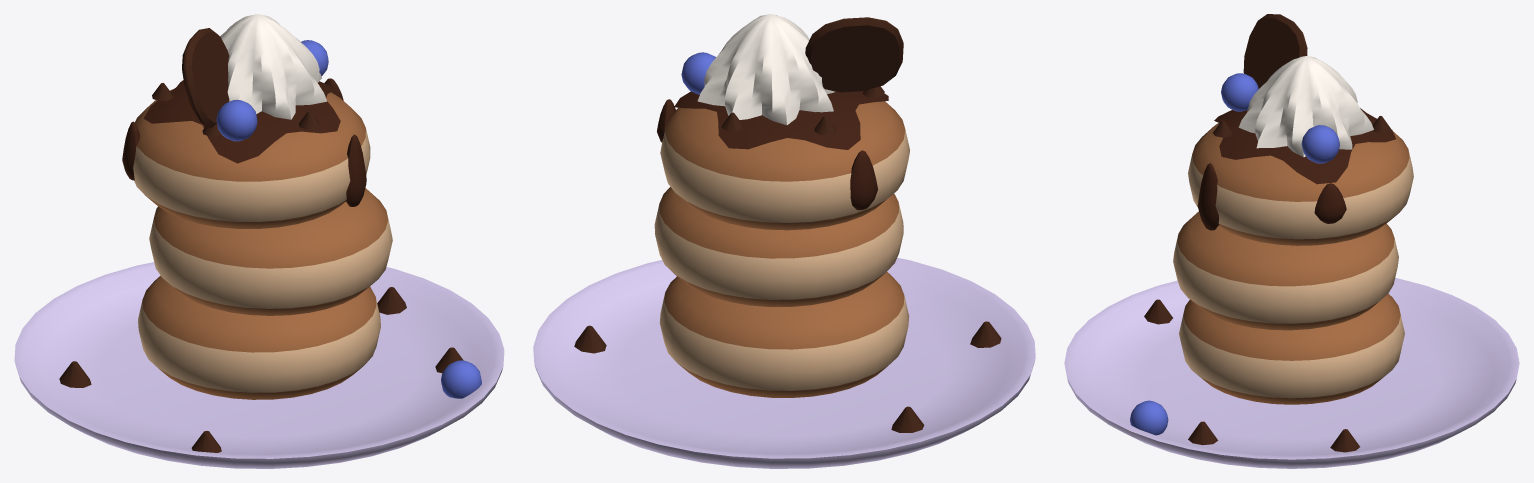
Rendered from ChocolatePancakes.glb.
3 renders of one model, left to right at view 1: azimuth 30°, elevation 25°; view 2: azimuth 150°, elevation 25°; view 3: azimuth 270°, elevation 25°, orthographic. The views are drawn at different scales.
Parts seen in each view (by area): view 1: ChocolatePancakes; view 2: ChocolatePancakes; view 3: ChocolatePancakes.
Boxes of the visible parts, left/top/right/bottom form: ChocolatePancakes: left=14, top=14, right=504, bottom=468; ChocolatePancakes: left=533, top=14, right=1035, bottom=468; ChocolatePancakes: left=1064, top=14, right=1519, bottom=468.
Size of the model in its own units: 1.53 by 1.29 by 1.53.
Materials: 7 (7 with a texture image).
